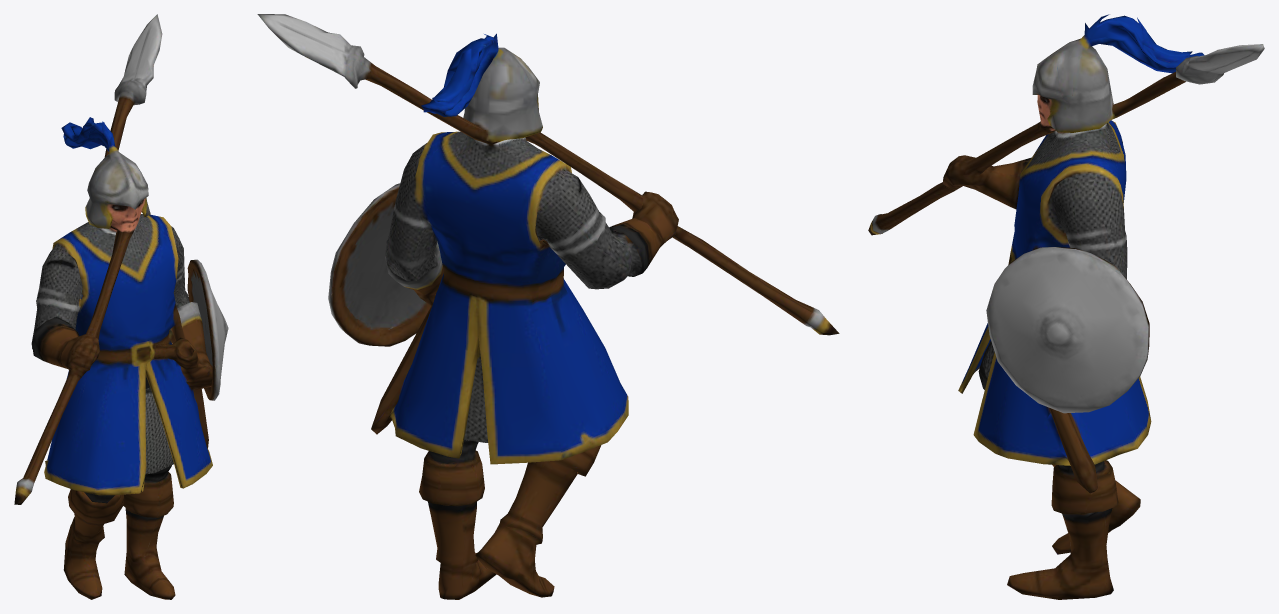
The model's file is spearmen_march.glb.
3 views of the same model, side by side, from view 1: azimuth 30°, elevation 25°; view 2: azimuth 150°, elevation 25°; view 3: azimuth 270°, elevation 25° (orthographic). The views are drawn at different scales.
Visible parts, largest first — view 1: world; view 2: world; view 3: world.
Boxes of the visible parts, bbox=[...] form: world: bbox=[14, 14, 228, 599]; world: bbox=[257, 14, 839, 599]; world: bbox=[868, 14, 1264, 599].
Size of the model in its own units: 0.6443 by 0.998 by 0.5958.
Materials: 1 (1 with a texture image).
